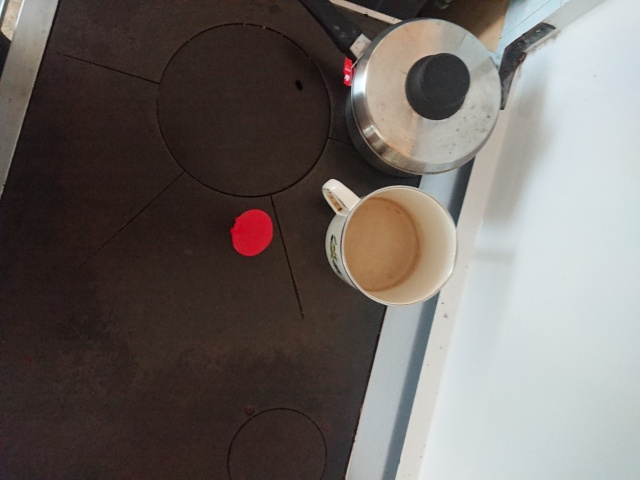Kotanyi Curry Spices Mix 70g: (227, 207, 275, 259)
